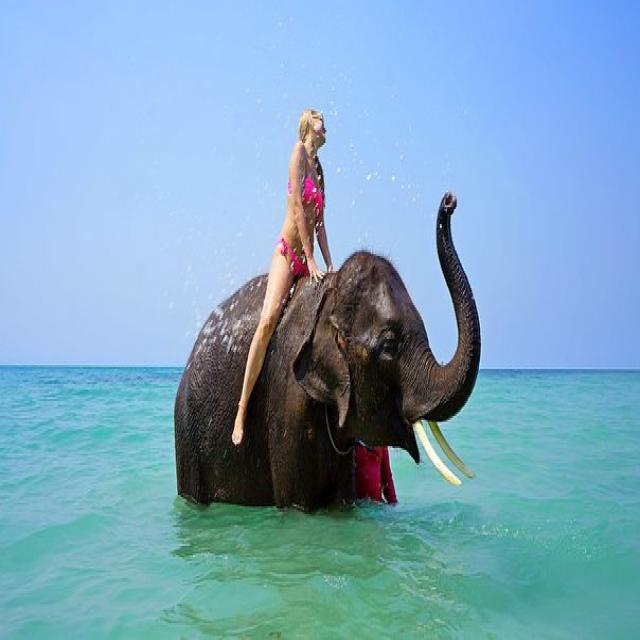Elephant: (161, 224, 503, 577)
